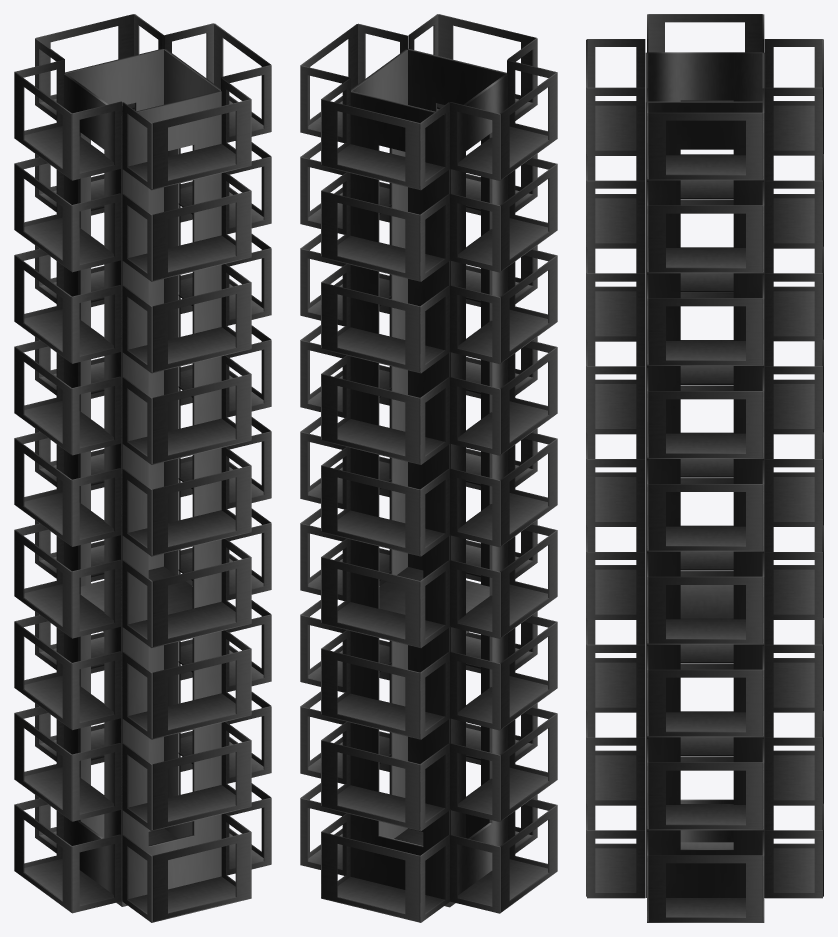
The model's file is ExpositorPostales.obj.
The picture shows the model from 3 angles, left to right: view 1: azimuth 30°, elevation 25°; view 2: azimuth 150°, elevation 25°; view 3: azimuth 270°, elevation 25°; orthographic projection.
Visible parts, largest first — view 1: ExpositordPostal; view 2: ExpositordPostal; view 3: ExpositordPostal.
Part boxes in pixels (<box>): ExpositordPostal: <box>14,14,271,922</box>; ExpositordPostal: <box>300,14,557,922</box>; ExpositordPostal: <box>586,14,823,922</box>.
Bounding box in the file's own units: 0.3611 × 1.38 × 0.3656.
Materials: 1 (1 with a texture image).
